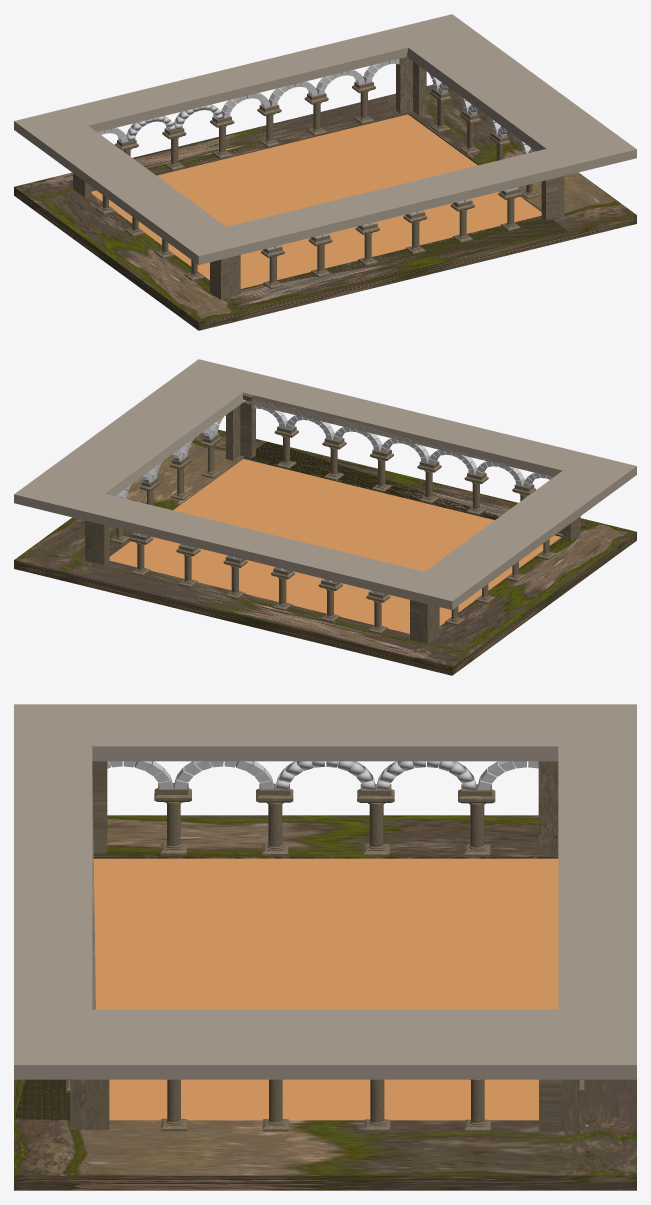
The model's file is Claustro.fbx.
3 renders of one model, top to bottom at view 1: azimuth 30°, elevation 25°; view 2: azimuth 150°, elevation 25°; view 3: azimuth 270°, elevation 25°, orthographic. The views are drawn at different scales.
Visible parts, largest first — view 1: Cubo.051, Cubo.021, Cubo.033, Cubo.010, Cubo.008, Cubo.009, Cubo.022, Cubo.044, Cubo.047, Cubo.043, Cubo.048, Cubo.019 (+7 smaller); view 2: Cubo.051, Cubo.021, Cubo.033, Cubo.009, Cubo.007, Cubo.010, Cubo.012, Cubo.019, Cubo.013, Cubo.018, Cubo.047, Cubo.006 (+7 smaller); view 3: Cubo.051, Cubo.033, Cubo.021, Cubo.010, Cubo.009, Cubo.007, Cubo.023, Cubo.035, Cubo.036, Cubo.034, Cubo.008, Cubo.039 (+8 smaller).
Boxes of the visible parts, x1,y1,x2,y2 form: Cubo.051: (14,14,636,264); Cubo.021: (14,84,636,330); Cubo.033: (91,114,541,288); Cubo.010: (396,57,426,115); Cubo.008: (210,255,240,299); Cubo.009: (541,176,564,220); Cubo.022: (162,128,186,170); Cubo.044: (257,104,281,147); Cubo.047: (304,93,328,135); Cubo.043: (498,188,522,231); Cubo.048: (352,81,375,124); Cubo.019: (450,200,474,242); Cubo.051: (14,359,636,609); Cubo.021: (14,427,636,675); Cubo.033: (109,458,561,633); Cubo.009: (226,392,255,460); Cubo.007: (410,600,439,643); Cubo.010: (85,520,109,565); Cubo.012: (417,461,441,504); Cubo.019: (322,438,346,480); Cubo.013: (464,472,488,515); Cubo.018: (370,449,393,492); Cubo.047: (176,544,200,587); Cubo.006: (366,591,390,633); Cubo.051: (14,704,636,1079); Cubo.033: (93,858,558,1120); Cubo.021: (14,815,636,1190); Cubo.010: (539,1079,579,1131); Cubo.009: (70,1079,109,1129); Cubo.007: (538,761,558,854); Cubo.023: (357,784,394,856); Cubo.035: (256,783,293,856); Cubo.036: (458,784,495,856); Cubo.034: (154,783,191,855); Cubo.008: (92,761,107,853); Cubo.039: (376,761,476,789).
Size of the model in its own units: 39195 by 6968 by 28619.
